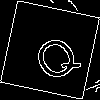Q: (25, 25, 85, 87)
